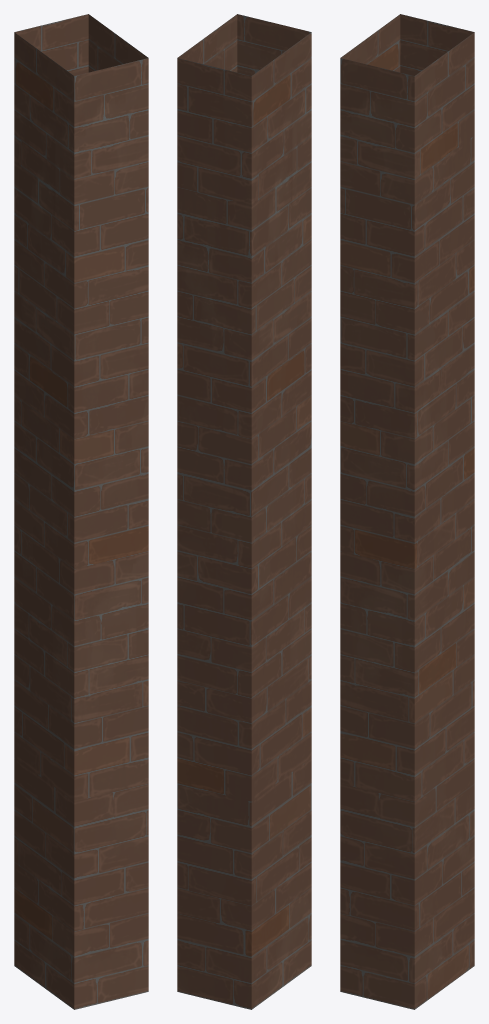
The model's file is Brick_Column_Small.gltf.
3 views of the same model, side by side, from view 1: azimuth 30°, elevation 25°; view 2: azimuth 150°, elevation 25°; view 3: azimuth 330°, elevation 25° (orthographic).
Visible parts, largest first — view 1: Brick_Column_Small; view 2: Brick_Column_Small; view 3: Brick_Column_Small.
Part boxes in pixels (x1,y1,x2,y2): Brick_Column_Small: (14,14,148,1009); Brick_Column_Small: (177,14,311,1009); Brick_Column_Small: (340,14,474,1009).
Size of the model in its own units: 0.25 by 3 by 0.3499.
Materials: 1 (1 with a texture image).
